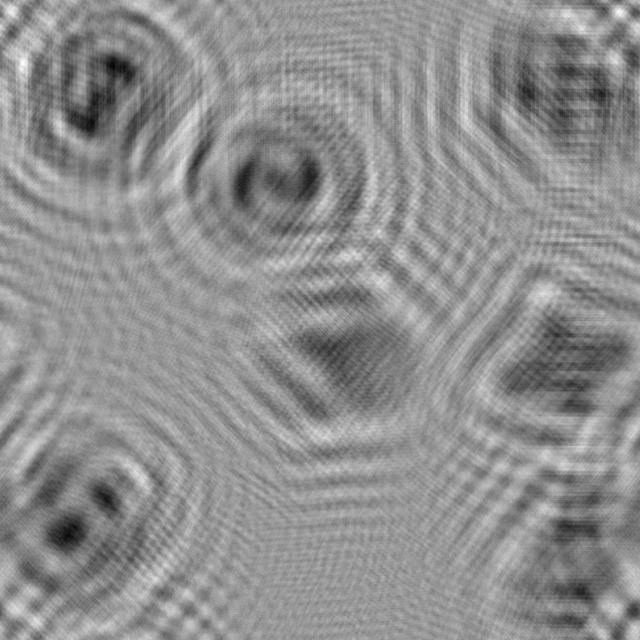B: (0, 0, 231, 245)
N: (448, 0, 640, 211)
R: (0, 395, 208, 640)
S: (146, 51, 419, 296)
V: (207, 247, 480, 476)
X: (445, 234, 640, 487)
Z: (461, 441, 640, 640)
